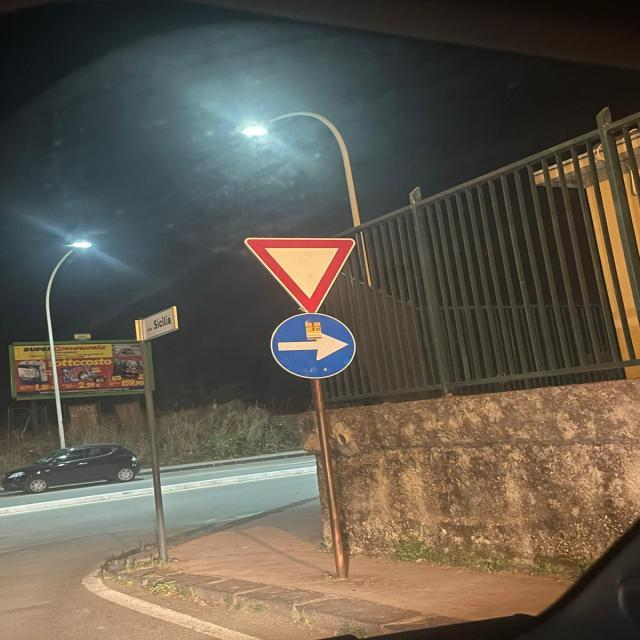prio_give_way: (243, 237, 358, 315)
